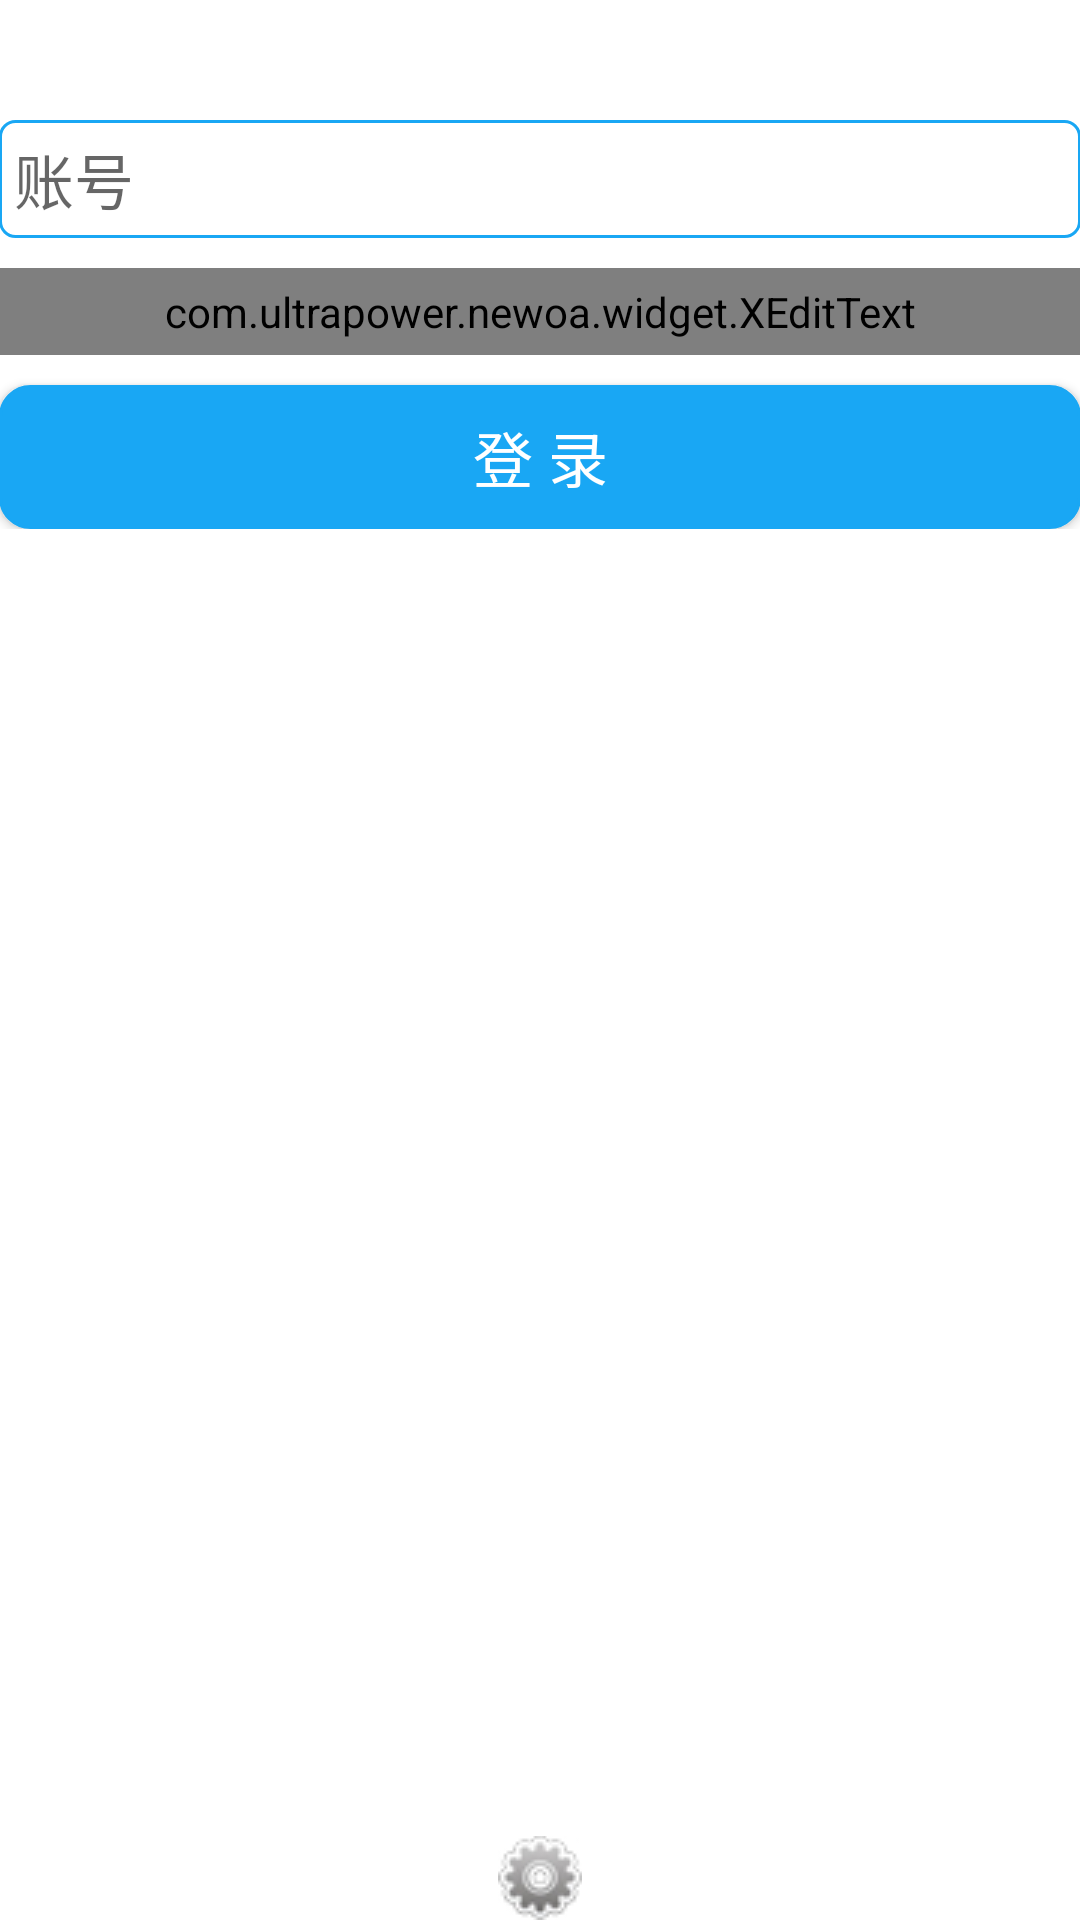

Point at icon controls on the screen. Image size 1080*1920, points as point (x, y).
setting: point (540, 1878)
